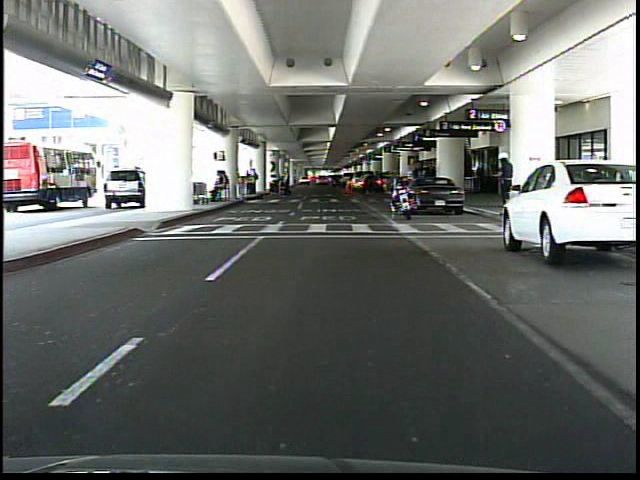person: (489, 149, 516, 218)
